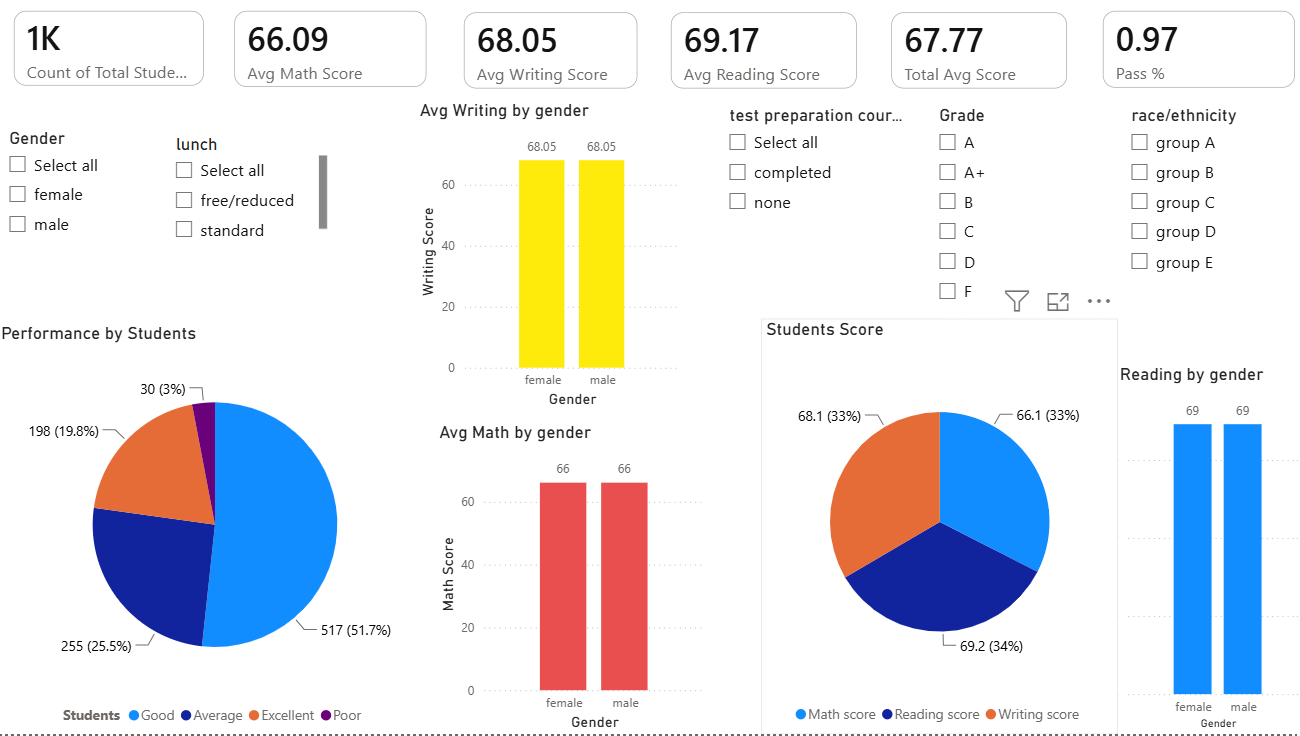

Layout of this report page (visuals, bound fields, positions):
{"tool":"powerbi","page":{"name":"Page 1","canvas":[1280,720],"ordinal":0},"visuals":[{"type":"cardVisual","fields":{"Data":["CountNonNull(StudentsPerformance.Total Students)"]},"box":[0,0,219.2,107.7],"z":0},{"type":"cardVisual","fields":{"Data":["Avg(StudentsPerformance.Avg Math)"]},"box":[215,0,221.7,108.3],"z":1000},{"type":"cardVisual","fields":{"Data":["Avg(StudentsPerformance.Avg Reading)"]},"box":[638.3,1.7,215,108.3],"z":2000},{"type":"cardVisual","fields":{"Data":["Avg(StudentsPerformance.Avg Writing)"]},"box":[436.7,1.7,203.3,108.3],"z":3000},{"type":"cardVisual","fields":{"Data":["Avg(StudentsPerformance.Overall Average)"]},"box":[853.3,1.7,205,108.3],"z":4000},{"type":"cardVisual","fields":{"Data":["Sum(StudentsPerformance.Pass %)"]},"box":[1058.3,0,221.1,109.6],"z":5000},{"type":"slicer","fields":{"Values":["StudentsPerformance.gender"]},"box":[0,125,128.3,128.3],"z":6000},{"type":"slicer","fields":{"Values":["StudentsPerformance.race/ethnicity"]},"box":[1090,103.3,185,213.3],"z":7000},{"type":"slicer","fields":{"Values":["StudentsPerformance.lunch"]},"box":[161.7,131.7,165,115],"z":8000},{"type":"slicer","fields":{"Values":["StudentsPerformance.test preparation course"]},"box":[700,103.3,203.3,140],"z":9000},{"type":"slicer","fields":{"Values":["StudentsPerformance.Grade"]},"box":[903.3,103.3,171.7,210],"z":10000},{"type":"clusteredColumnChart","title":"Avg Math by gender","fields":{"Category":["StudentsPerformance.gender"],"Y":["Avg(StudentsPerformance.Avg Math)"]},"box":[425,416.7,268.3,303.3],"z":11000},{"type":"clusteredColumnChart","title":"Avg Reading by gender","fields":{"Category":["StudentsPerformance.gender"],"Y":["Avg(StudentsPerformance.Avg Reading)"]},"box":[1055,360,225,360],"z":12000},{"type":"clusteredColumnChart","title":"Avg Writing by gender","fields":{"Category":["StudentsPerformance.gender"],"Y":["Avg(StudentsPerformance.Avg Writing)"]},"box":[406.7,103.3,263.3,303.3],"z":13000},{"type":"pieChart","title":"Students Score","fields":{"Y":["Avg(StudentsPerformance.math score)","Avg(StudentsPerformance.reading score)","Avg(StudentsPerformance.writing score)"]},"box":[743.3,316.7,346.7,403.3],"z":14000},{"type":"pieChart","fields":{"Category":["StudentsPerformance.Performance"],"Y":["CountNonNull(StudentsPerformance.Total Students)"]},"box":[0,320,425,400],"z":15000}]}

Visuals, with their boxes in screenshot pixels (x1, y1, x2, y2), scaled from the page's 1280x720 canvas onto the 1300x736 screenshot:
cardVisual - CountNonNull(StudentsPerformance.Total Students): crop(0, 0, 223, 110)
cardVisual - Avg(StudentsPerformance.Avg Math): crop(218, 0, 444, 111)
cardVisual - Avg(StudentsPerformance.Avg Reading): crop(648, 2, 867, 112)
cardVisual - Avg(StudentsPerformance.Avg Writing): crop(444, 2, 650, 112)
cardVisual - Avg(StudentsPerformance.Overall Average): crop(867, 2, 1075, 112)
cardVisual - Sum(StudentsPerformance.Pass %): crop(1075, 0, 1299, 112)
slicer - StudentsPerformance.gender: crop(0, 128, 130, 259)
slicer - StudentsPerformance.race/ethnicity: crop(1107, 106, 1295, 324)
slicer - StudentsPerformance.lunch: crop(164, 135, 332, 252)
slicer - StudentsPerformance.test preparation course: crop(711, 106, 917, 249)
slicer - StudentsPerformance.Grade: crop(917, 106, 1092, 320)
"Avg Math by gender" clusteredColumnChart: crop(432, 426, 704, 735)
"Avg Reading by gender" clusteredColumnChart: crop(1071, 368, 1299, 735)
"Avg Writing by gender" clusteredColumnChart: crop(413, 106, 680, 416)
"Students Score" pieChart: crop(755, 324, 1107, 735)
pieChart - StudentsPerformance.Performance x CountNonNull(StudentsPerformance.Total Students): crop(0, 327, 432, 735)
